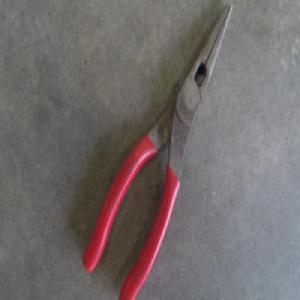Pliers: (82, 15, 230, 295)
